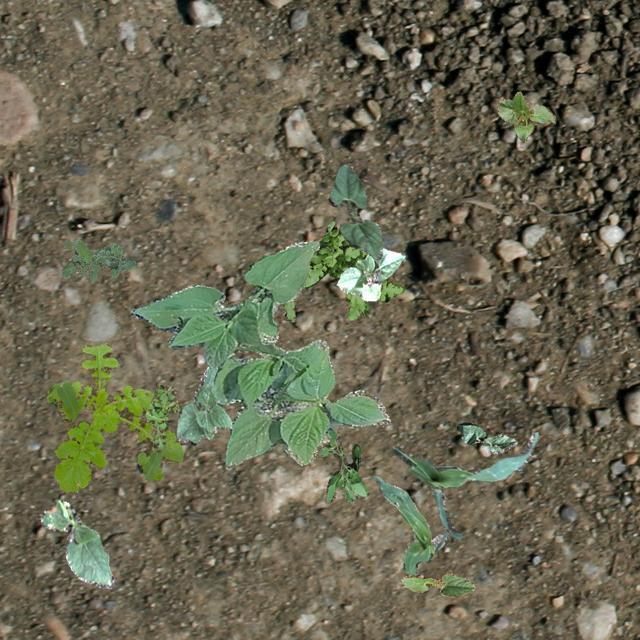crop: (130, 240, 390, 468), (392, 432, 538, 538), (373, 476, 449, 574), (39, 498, 114, 588), (328, 162, 380, 258), (176, 366, 232, 444), (336, 247, 404, 300), (496, 90, 554, 142), (456, 422, 516, 452), (400, 572, 474, 596)
weed: (46, 342, 184, 492), (282, 220, 402, 320), (318, 424, 368, 502), (60, 238, 134, 280), (144, 384, 178, 452)
